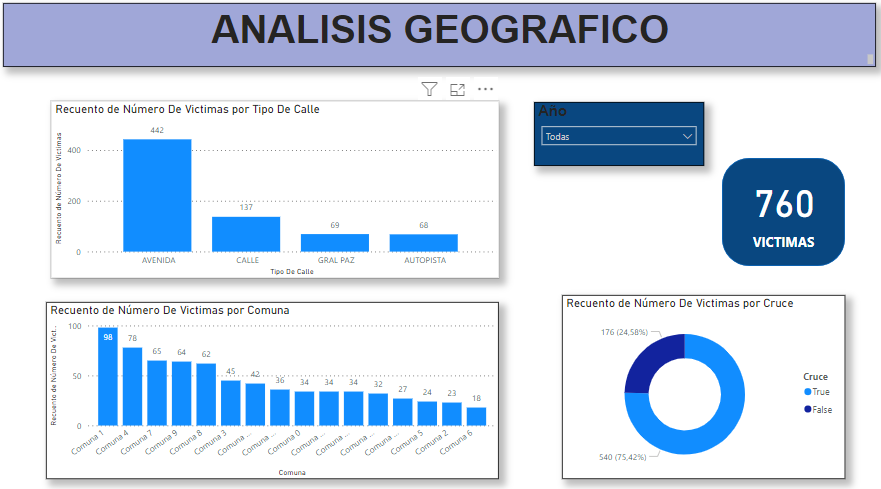

The dashboard page shown, as its layout file describes it:
{"tool":"powerbi","page":{"name":"Análisis Geográfico","canvas":[1280,720],"ordinal":3},"visuals":[{"type":"textbox","title":"ANALISIS GEOGRAFICO","box":[10,11,1257,92],"z":0},{"type":"map","fields":{"Series":["tipo_calle.Tipo De Calle"],"Y":["ubicacion.Pos Y"],"X":["ubicacion.Pos X"]},"box":[23,139.7,953.3,267.8],"z":1000},{"type":"slicer","title":"Año","fields":{"Values":["Calendario.Date.Variación.Jerarquía de fechas.Año"]},"box":[1012.3,139.7,244.8,92.2],"z":2000},{"type":"shape","box":[1045.4,234.7,177.1,155.5],"z":3000},{"type":"card","fields":{"Values":["Sum(hechos_main.Número De Victimas)"]},"box":[1080,246.2,109.4,93.6],"z":4000},{"type":"textbox","box":[1064.2,338.4,139.7,41.8],"z":5000},{"type":"columnChart","fields":{"Category":["tipo_calle.Tipo De Calle"],"Y":["CountNonNull(hechos_main.Número De Victimas)"]},"box":[23,429.1,355.7,254.9],"z":6000},{"type":"columnChart","fields":{"Category":["comunas.Comuna"],"Y":["CountNonNull(hechos_main.Número De Victimas)"]},"box":[429.1,429.1,508.3,254.9],"z":7000},{"type":"donutChart","fields":{"Category":["cruce.Cruce"],"Y":["CountNonNull(hechos_main.Número De Victimas)"]},"box":[960.5,429.1,296.6,254.9],"z":8000}]}

Visuals, with their boxes in screenshot pixels (x1, y1, x2, y2), scaled from the page's 1280x720 canvas onto the 881x489 screenshot:
"ANALISIS GEOGRAFICO" textbox: (7,7,872,70)
map - tipo_calle.Tipo De Calle x ubicacion.Pos Y: (16,95,672,277)
"Año" slicer: (697,95,865,157)
shape: (720,159,841,265)
card - Sum(hechos_main.Número De Victimas): (743,167,819,231)
textbox: (732,230,829,258)
columnChart - tipo_calle.Tipo De Calle x CountNonNull(hechos_main.Número De Victimas): (16,291,261,465)
columnChart - comunas.Comuna x CountNonNull(hechos_main.Número De Victimas): (295,291,645,465)
donutChart - cruce.Cruce x CountNonNull(hechos_main.Número De Victimas): (661,291,865,465)
